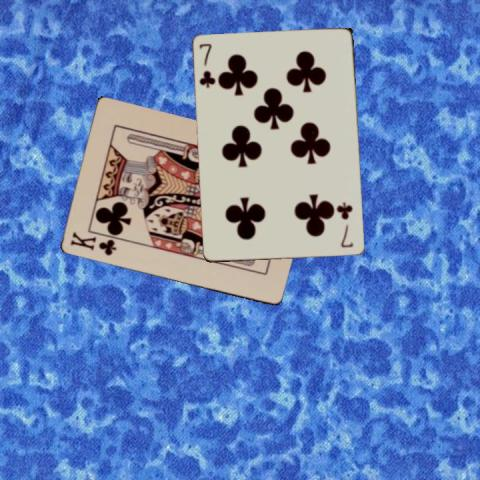7c: (197, 41, 217, 89), (336, 200, 355, 250)
Kc: (67, 230, 118, 258)
